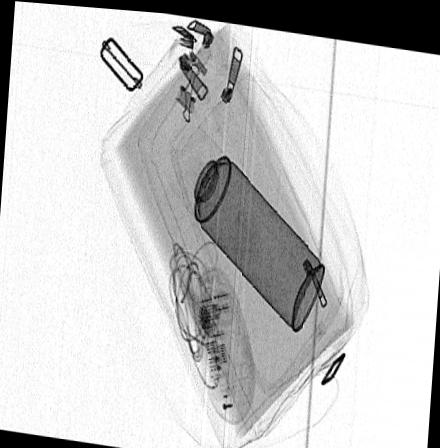Sprayer: (168, 123, 325, 327)
